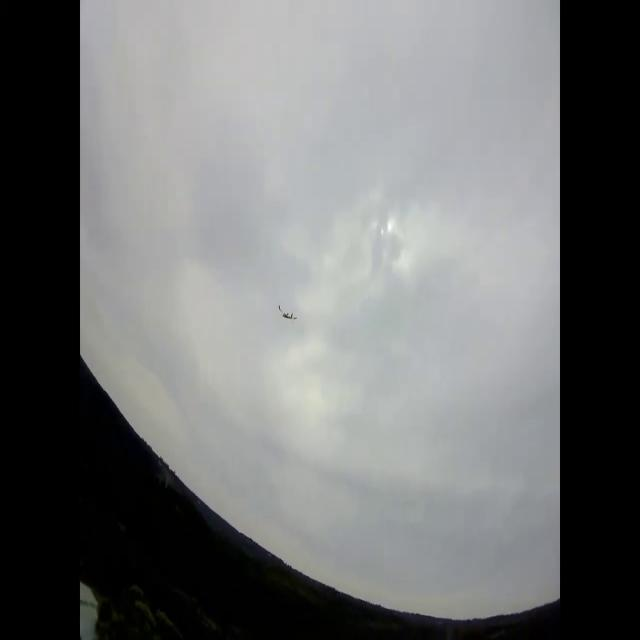iha: (279, 306, 298, 322)
